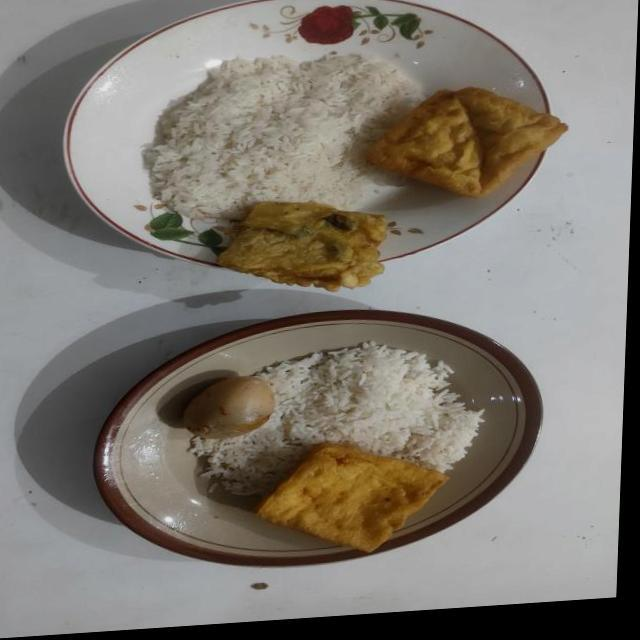nasi_putih: (144, 55, 422, 218), (191, 341, 484, 494)
tahu_goreng: (366, 87, 568, 197), (258, 443, 448, 552)
